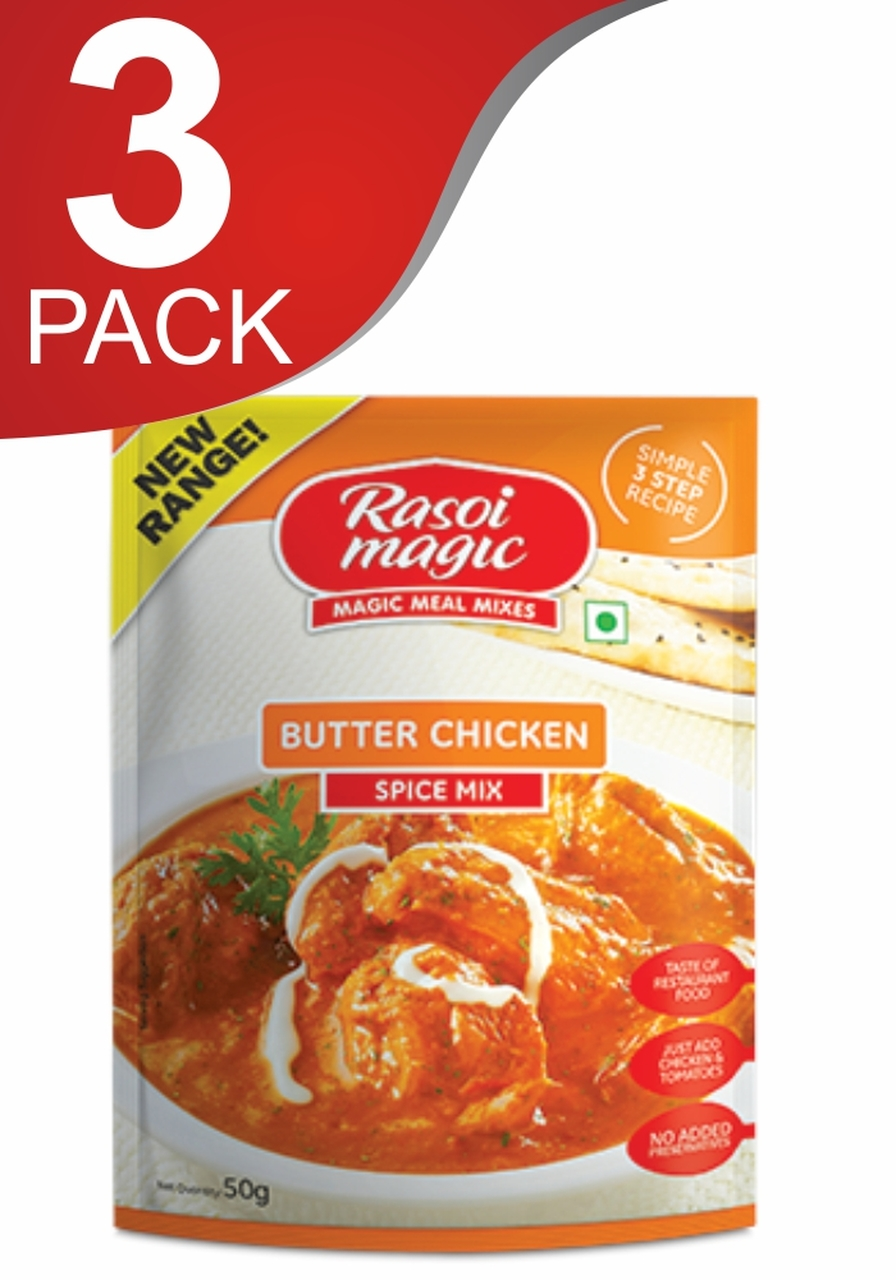VEG: (581, 596, 630, 645)
